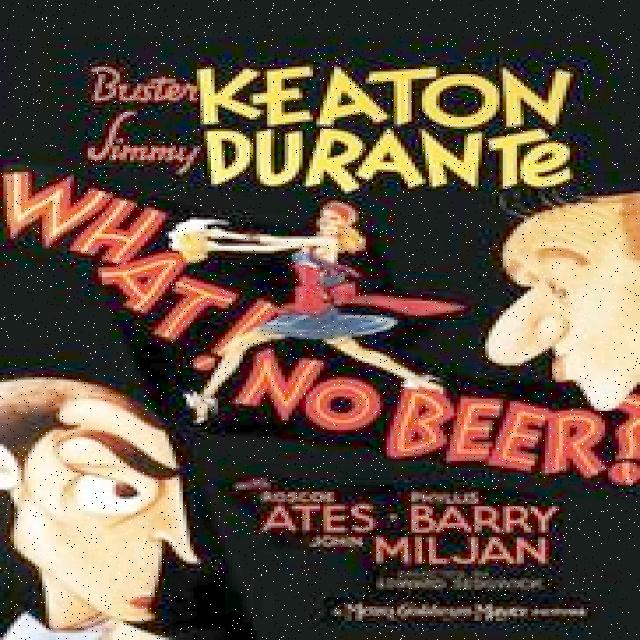movie-judul: (3, 172, 640, 486)
picture: (168, 197, 468, 425), (0, 377, 203, 640)
